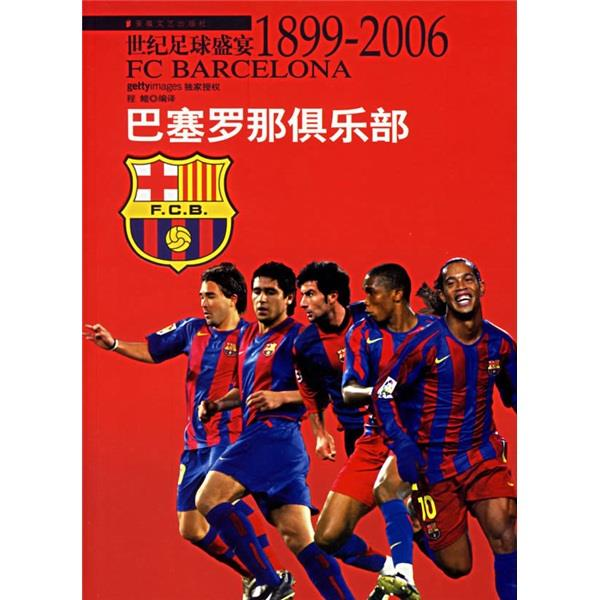BarcelonaFC: (111, 145, 248, 283)
